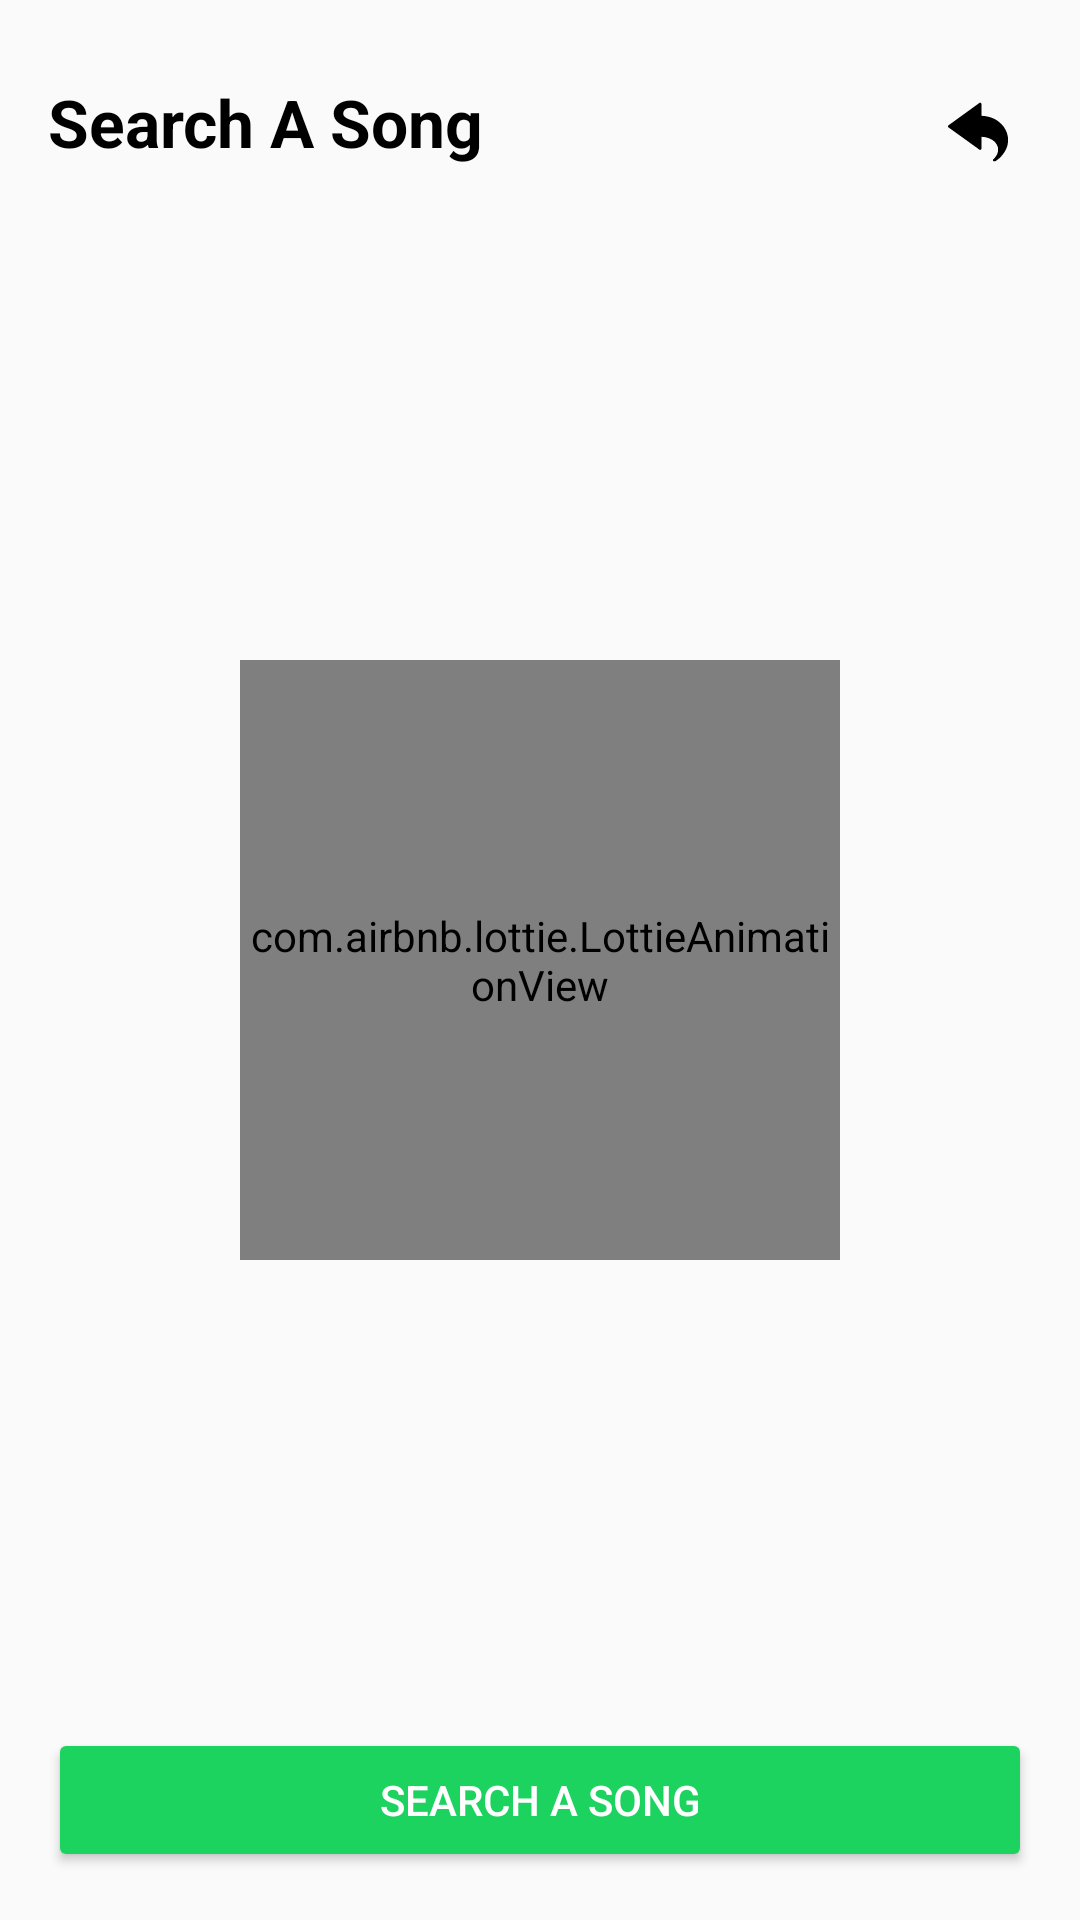

Screen size 1080w x 1920h. Icon name, then its box in pixels as (x1, y1, x2, y2):
Back: (948, 102, 1008, 162)
